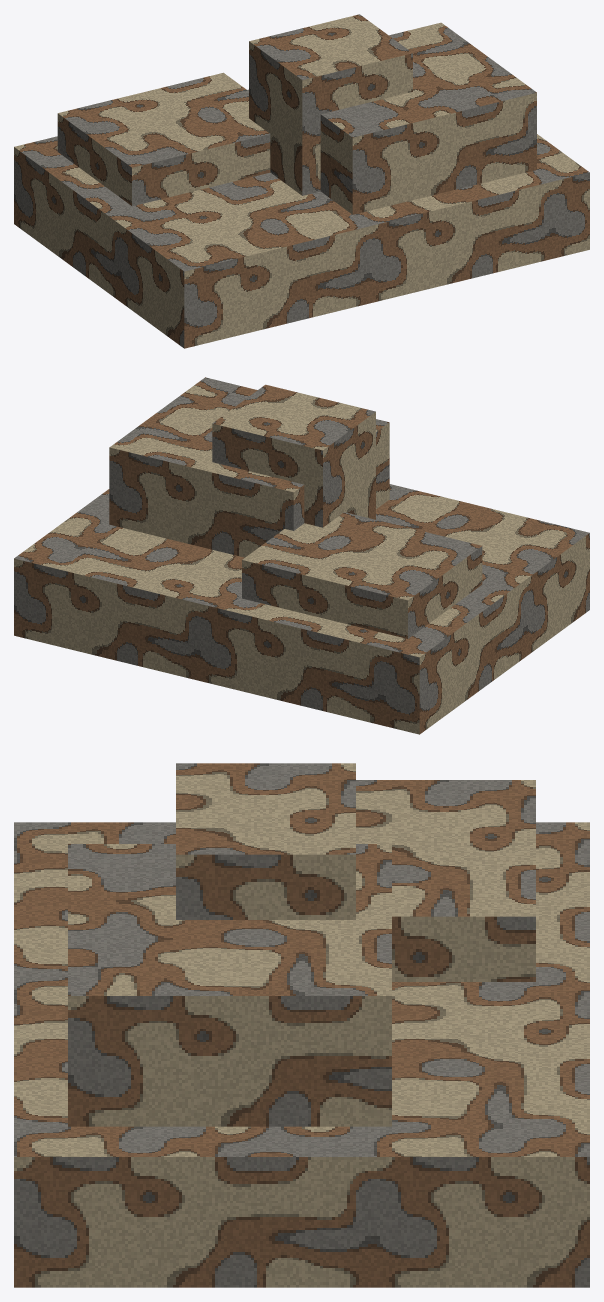
Rendered from rubble-large.glb.
The picture shows the model from 3 angles, top to bottom: view 1: azimuth 30°, elevation 25°; view 2: azimuth 150°, elevation 25°; view 3: azimuth 270°, elevation 25°; orthographic projection. The views are drawn at different scales.
Visible parts, largest first — view 1: rubble-large; view 2: rubble-large; view 3: rubble-large.
Part boxes in pixels (x1=…): rubble-large: x1=14, y1=14, x2=589, y2=348; rubble-large: x1=14, y1=377, x2=589, y2=734; rubble-large: x1=14, y1=763, x2=589, y2=1287.
Bounding box in the file's own units: 2.2 × 1 × 1.6.
Materials: 1 (1 with a texture image).
